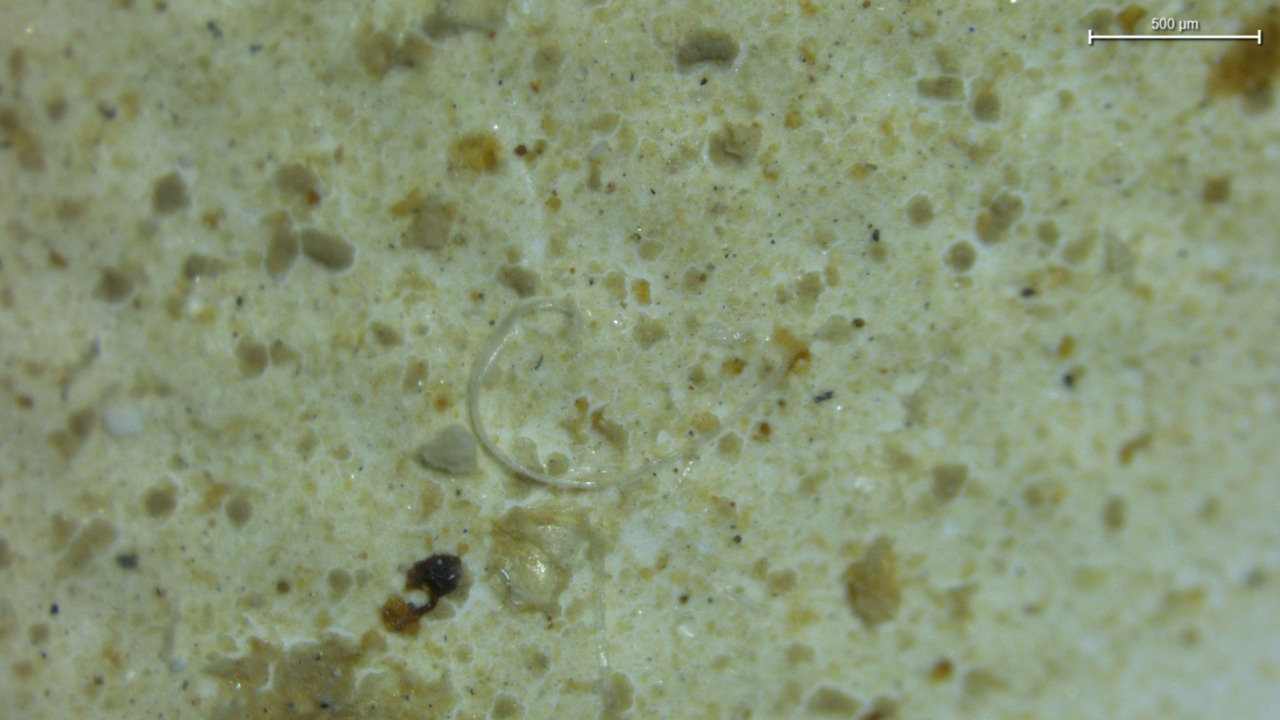microplastic_fragment: (491, 509, 589, 616), (418, 424, 477, 474)
